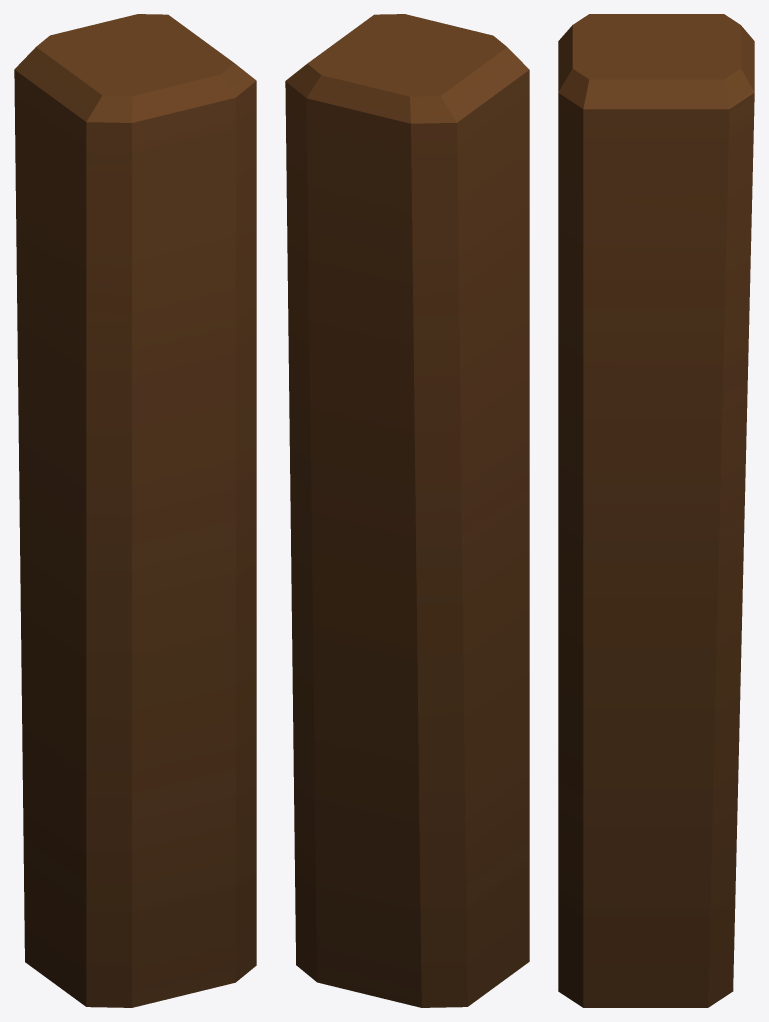
The model's file is Fence_1_C_2.fbx.
3 views of the same model, side by side, from view 1: azimuth 30°, elevation 25°; view 2: azimuth 150°, elevation 25°; view 3: azimuth 270°, elevation 25° (orthographic).
Visible parts, largest first — view 1: Fence_1_C_2; view 2: Fence_1_C_2; view 3: Fence_1_C_2.
Boxes of the visible parts, x1,y1,x2,y2 form: Fence_1_C_2: (14, 14, 256, 1007); Fence_1_C_2: (285, 14, 529, 1007); Fence_1_C_2: (558, 14, 754, 1007).
Size of the model in its own units: 11.29 by 57.36 by 11.11.
